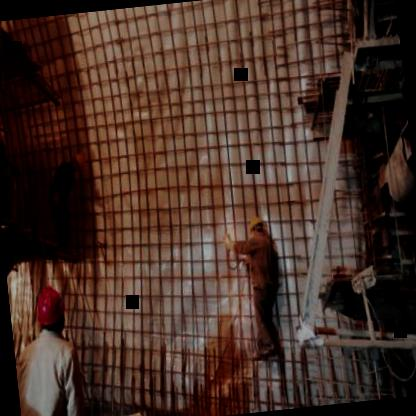helmet: (31, 282, 67, 340), (245, 216, 266, 243), (69, 147, 86, 175), (0, 132, 8, 158)
